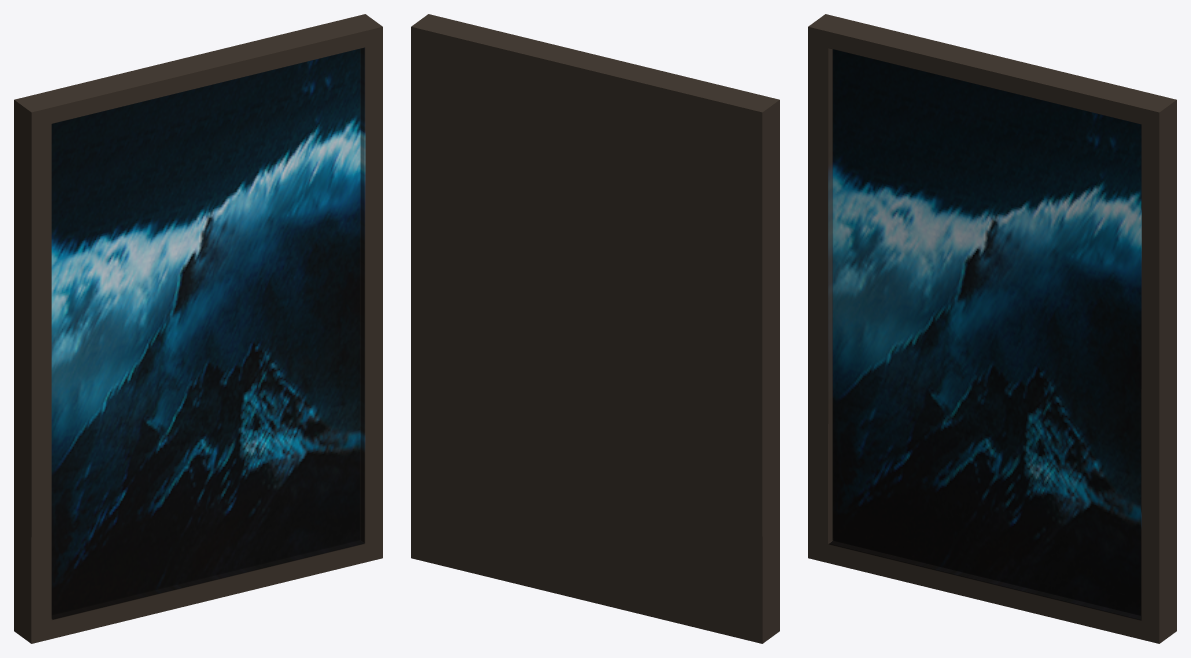
The model's file is lukisan galeri 1.fbx.
3 views of the same model, side by side, from view 1: azimuth 30°, elevation 25°; view 2: azimuth 150°, elevation 25°; view 3: azimuth 330°, elevation 25° (orthographic).
Visible parts, largest first — view 1: Cube; view 2: Cube; view 3: Cube.
Boxes of the visible parts, x1=… form: Cube: x1=14, y1=14, x2=382, y2=643; Cube: x1=411, y1=14, x2=779, y2=643; Cube: x1=808, y1=14, x2=1176, y2=643.
Size of the model in its own units: 249 by 359 by 21.32.
Materials: 1 (1 with a texture image).
